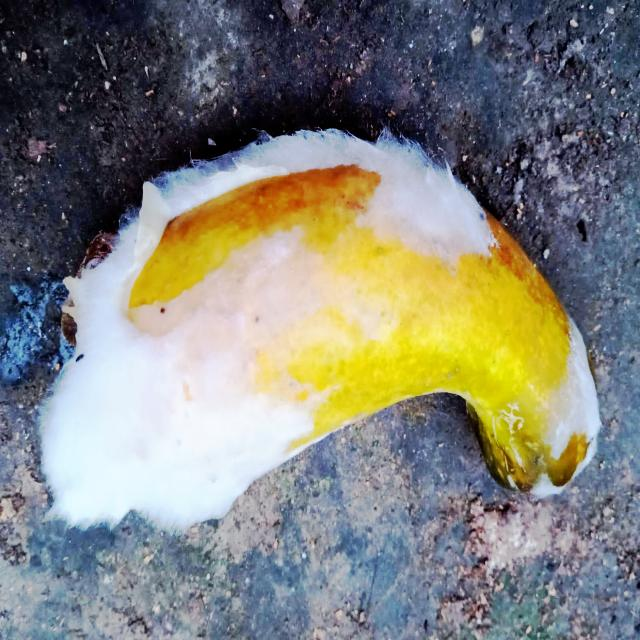Pythium-Fruit-Rot: (31, 121, 604, 534)
